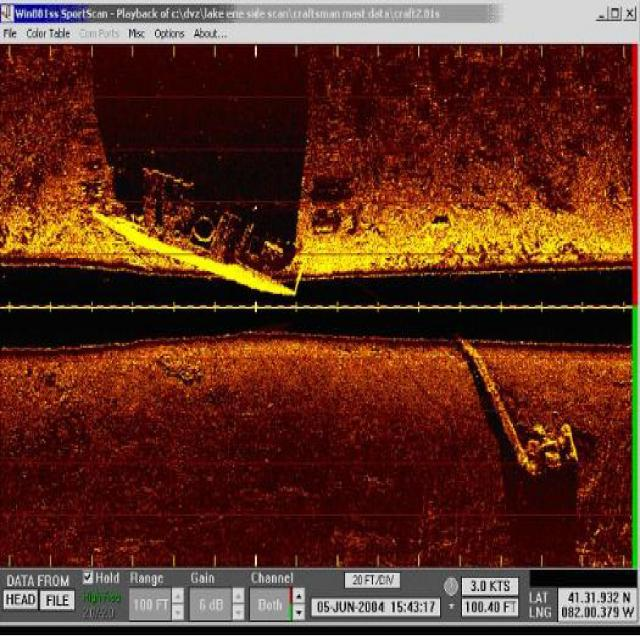ship: (90, 164, 306, 306), (454, 333, 580, 477)
